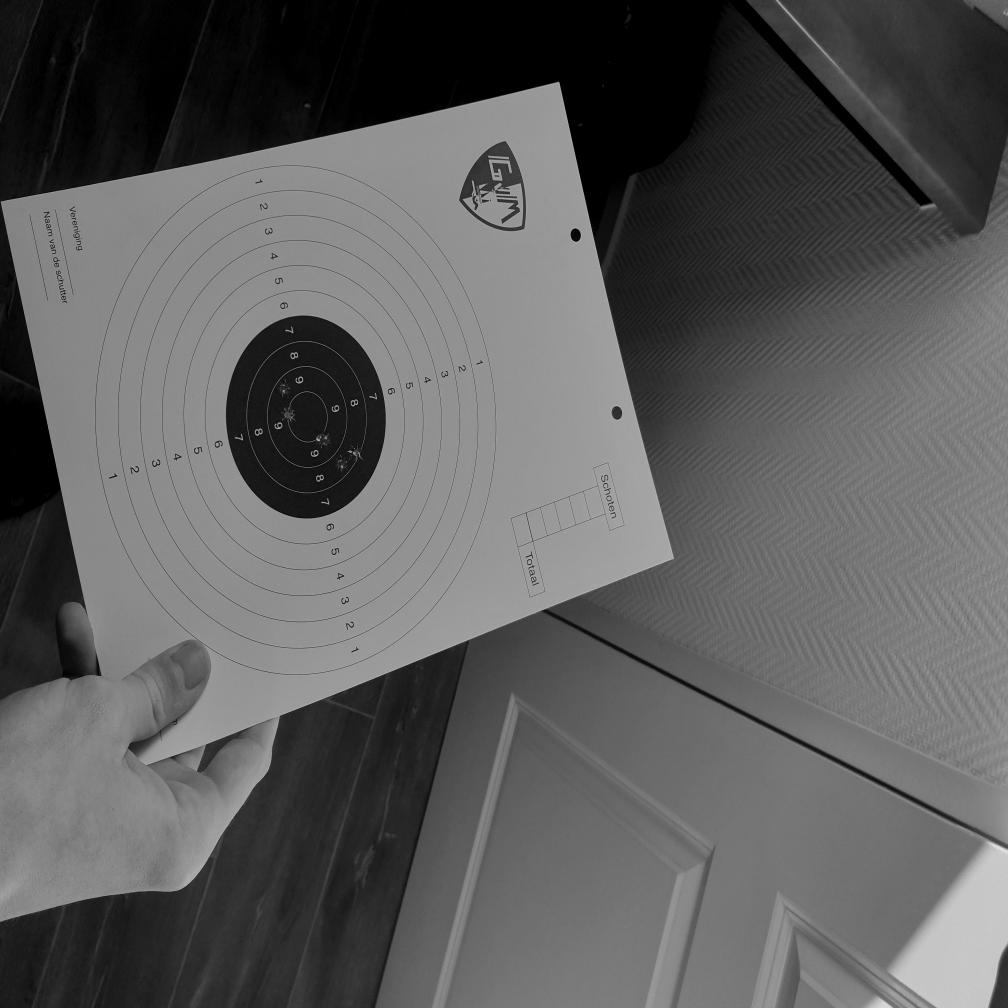10: (279, 404, 297, 424), (316, 432, 332, 450)
8: (345, 442, 365, 464), (335, 455, 349, 474)
9: (277, 378, 291, 399)
Target: (94, 165, 498, 677)
black_contour: (225, 315, 386, 518)
